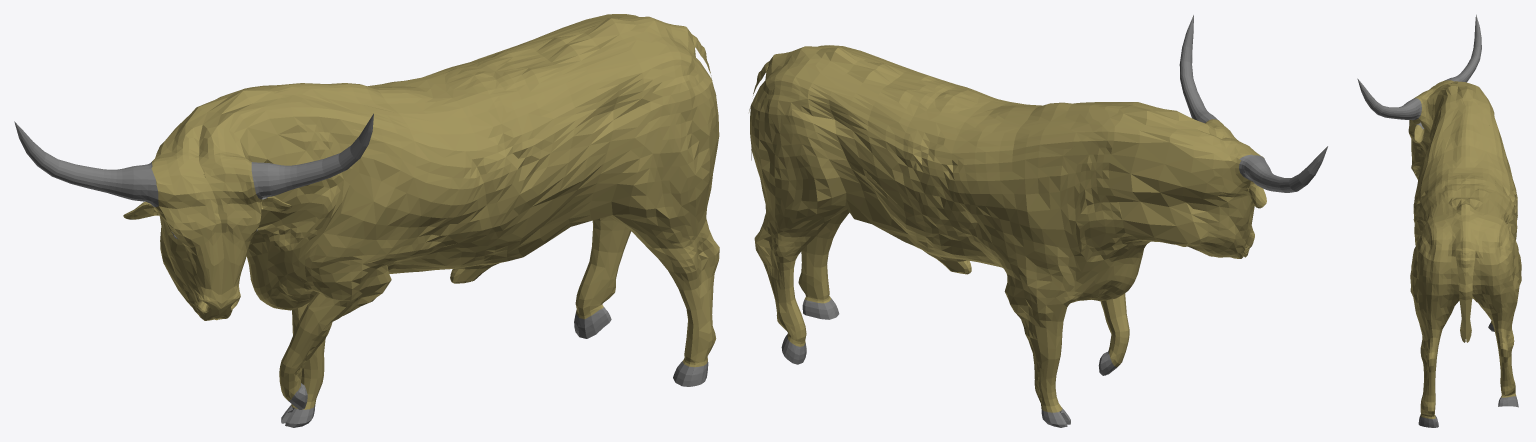
Rendered from animals-bull-026.glb.
3 renders of one model, left to right at view 1: azimuth 30°, elevation 25°; view 2: azimuth 150°, elevation 25°; view 3: azimuth 270°, elevation 25°, orthographic. The views are drawn at different scales.
Parts seen in each view (by area): view 1: Cattle; view 2: Cattle; view 3: Cattle.
Part boxes in pixels (box(x1,y1,x2,y2)): Cattle: box(14, 14, 719, 427); Cattle: box(749, 15, 1327, 427); Cattle: box(1357, 14, 1521, 427).
Size of the model in its own units: 332 by 187 by 116.
